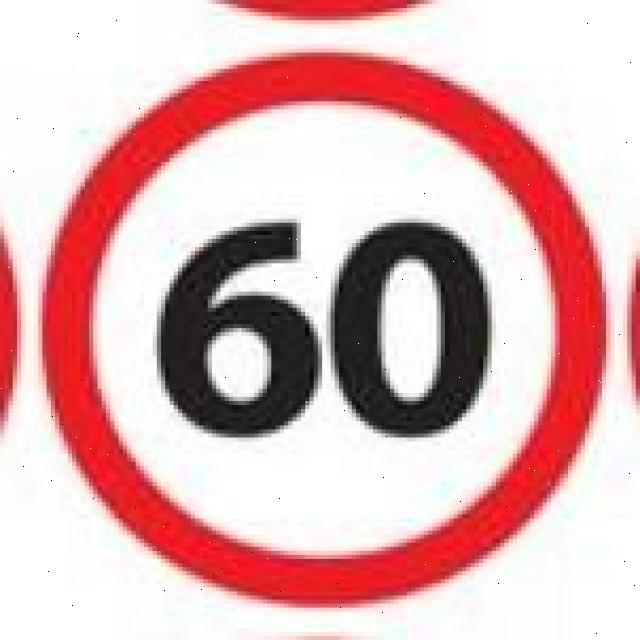speed limit 60: (40, 51, 608, 604)
